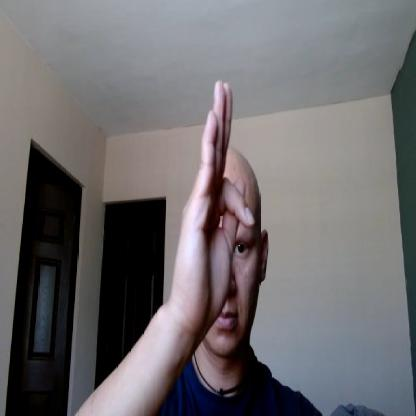F: (171, 78, 255, 326)
